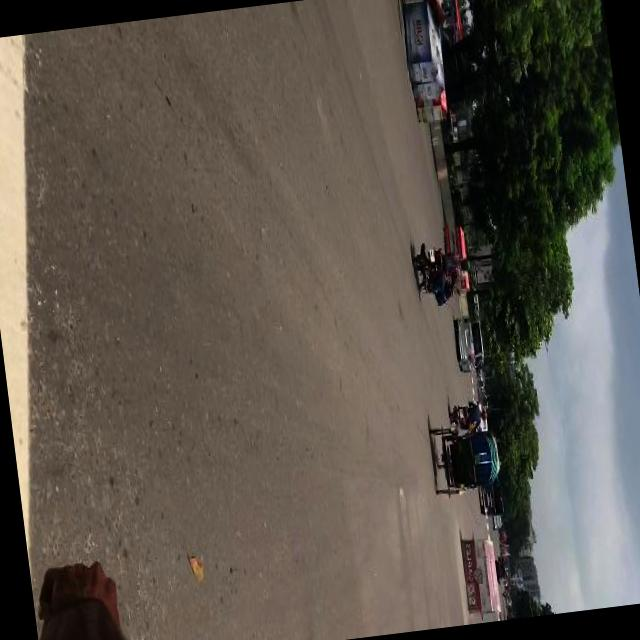bus: (498, 544, 511, 559)
car: (479, 489, 505, 519), (476, 372, 486, 388), (492, 518, 502, 532)
motorcycle: (426, 424, 501, 498), (409, 238, 474, 304), (446, 406, 479, 434)
truck: (452, 314, 488, 374), (498, 530, 508, 544)
